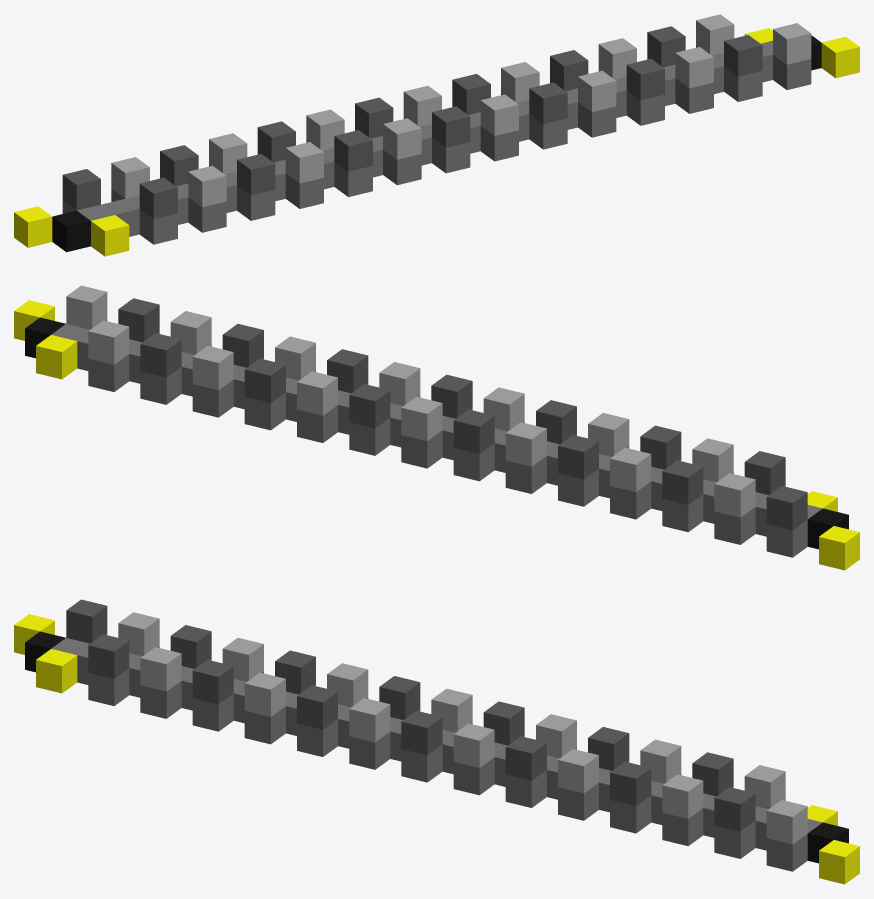
Rendered from kolczatka.obj.
The picture shows the model from 3 angles, top to bottom: view 1: azimuth 30°, elevation 25°; view 2: azimuth 150°, elevation 25°; view 3: azimuth 330°, elevation 25°; orthographic projection. The views are drawn at different scales.
Bounding box in the file's own units: 3.3 × 0.2 × 0.3.
